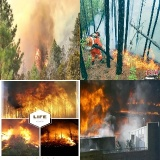fire: (6, 85, 73, 118), (80, 89, 109, 136), (123, 47, 160, 70), (128, 91, 160, 107), (57, 133, 76, 146), (118, 109, 159, 115), (20, 126, 31, 144), (35, 47, 42, 66), (109, 45, 117, 61), (2, 129, 12, 141), (1, 142, 11, 150), (44, 59, 48, 67), (35, 146, 38, 148)
